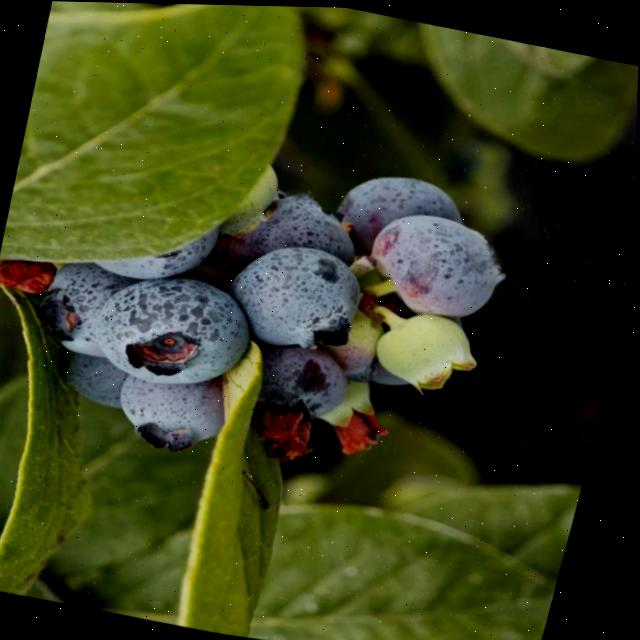RipeBlueBerry: (82, 256, 269, 402), (224, 230, 374, 362)
